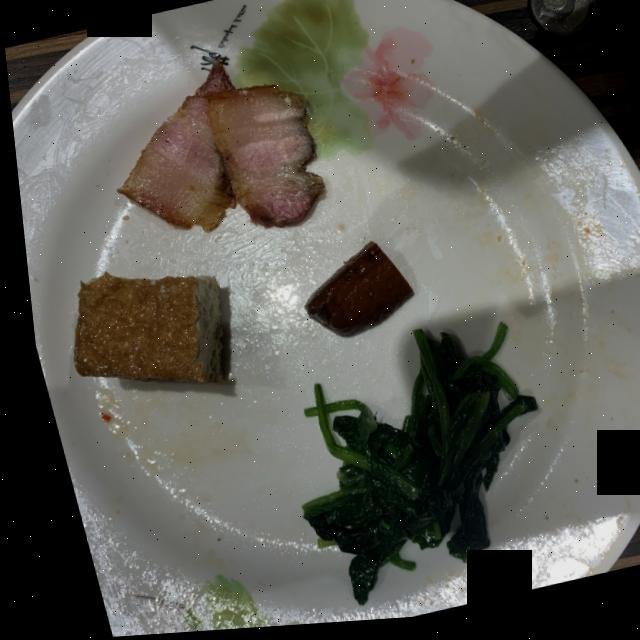coin: (527, 0, 596, 43)
egg tofu: (66, 272, 215, 385)
firm tofu: (298, 246, 406, 341)
grilled pork: (113, 61, 319, 234)
mustard greens: (291, 328, 527, 608)
